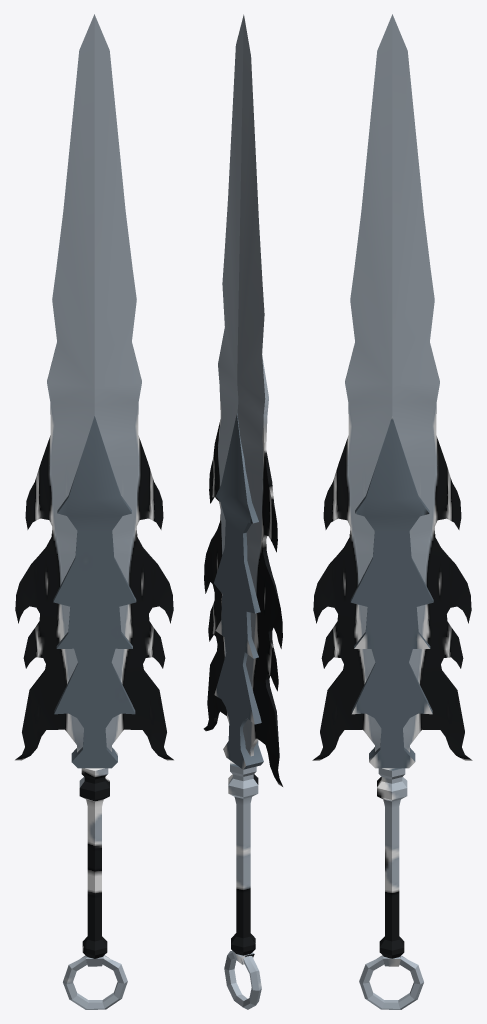
Rendered from shard_blade.obj.
3 views of the same model, side by side, from view 1: azimuth 90°, elevation 25°; view 2: azimuth 210°, elevation 25°; view 3: azimuth 270°, elevation 25° (orthographic).
Visible parts, largest first — view 1: shardBlade; view 2: shardBlade; view 3: shardBlade.
Part boxes in pixels (x1=…): shardBlade: x1=15, y1=14, x2=173, y2=1009; shardBlade: x1=203, y1=14, x2=282, y2=1009; shardBlade: x1=312, y1=14, x2=472, y2=1009.
Size of the model in its own units: 5.46 by 172 by 25.15.
